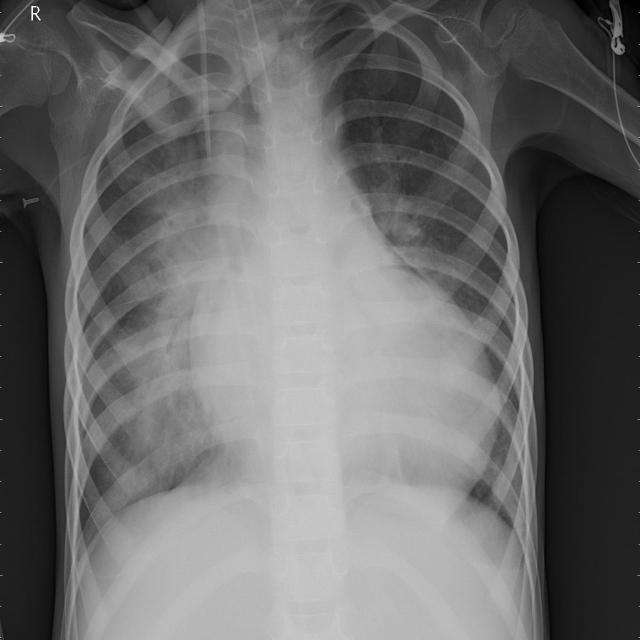low-pneumonia: (109, 306, 212, 509), (373, 173, 463, 277), (152, 163, 213, 306)
